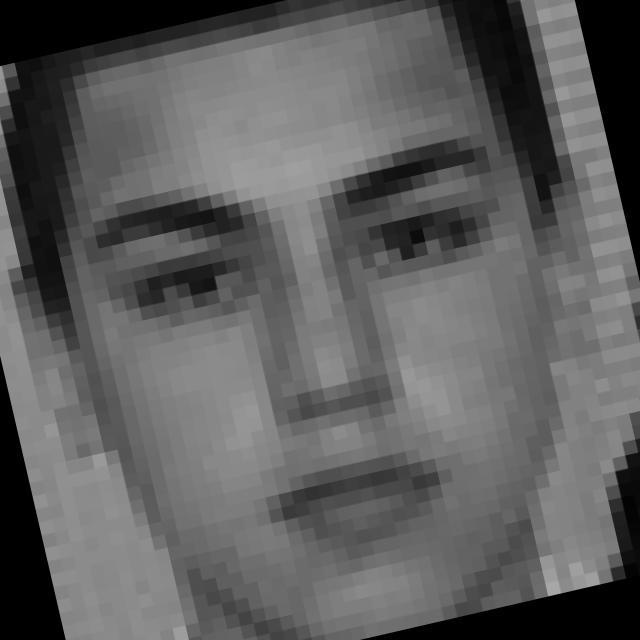neutral: (76, 115, 576, 604)
